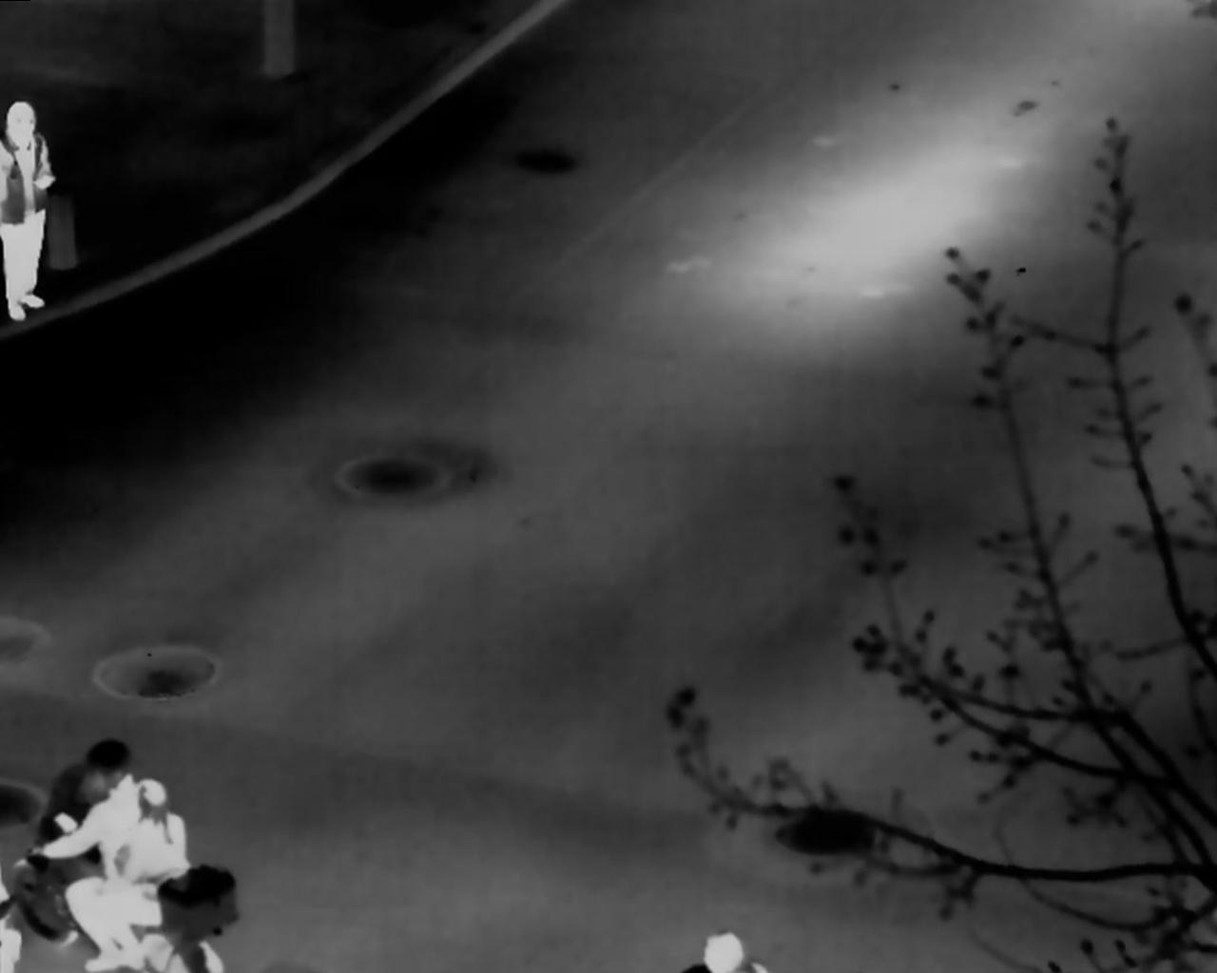person: (44, 740, 135, 973), (98, 775, 190, 969), (3, 100, 56, 319)
